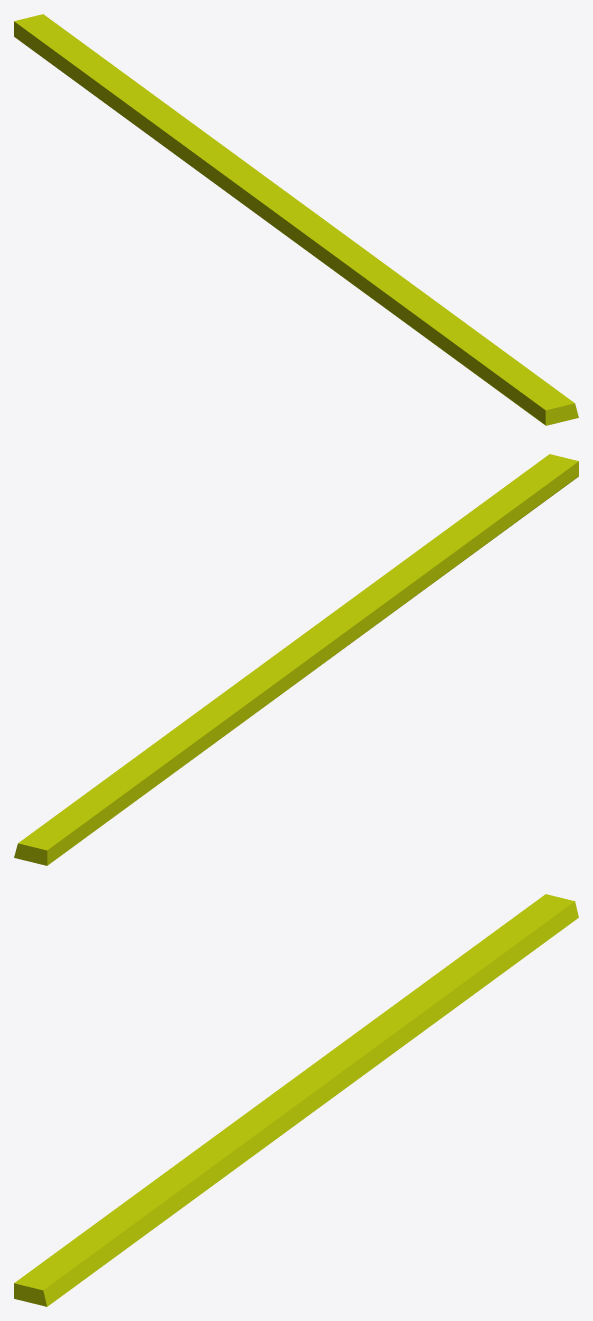
3 views of the same model, one above another, from view 1: azimuth 30°, elevation 25°; view 2: azimuth 150°, elevation 25°; view 3: azimuth 330°, elevation 25° (orthographic).
Bounding box in the file's own units: 0.34 × 0.152 × 9.43.
